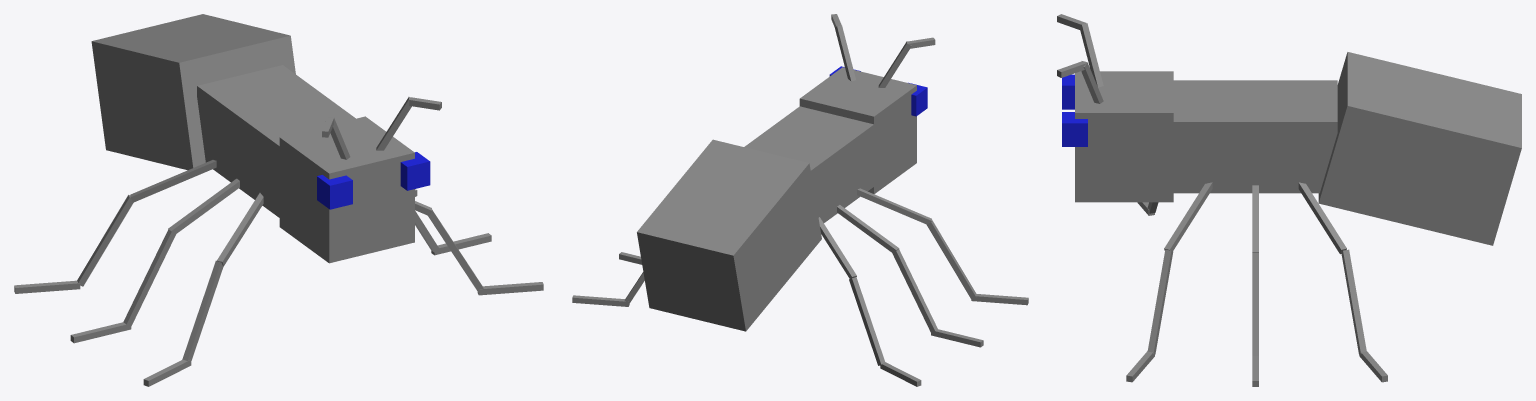
Rendered from ChildcareAnt.fbx.
The picture shows the model from 3 angles, left to right: view 1: azimuth 30°, elevation 25°; view 2: azimuth 150°, elevation 25°; view 3: azimuth 270°, elevation 25°; orthographic projection. The views are drawn at different scales.
Visible parts, largest first — view 1: Cube.001, Cube.022, Cube.023; view 2: Cube.001, Cube.022; view 3: Cube.001, Cube.023, Cube.022.
Part boxes in pixels (x1,y1,x2,y2): Cube.001: [14, 14, 543, 386]; Cube.022: [317, 175, 352, 209]; Cube.023: [400, 152, 430, 190]; Cube.001: [572, 14, 1028, 386]; Cube.022: [908, 82, 927, 116]; Cube.001: [1057, 14, 1521, 386]; Cube.023: [1062, 112, 1087, 146]; Cube.022: [1062, 74, 1074, 109].
Size of the model in its own units: 175 by 98.59 by 170.
